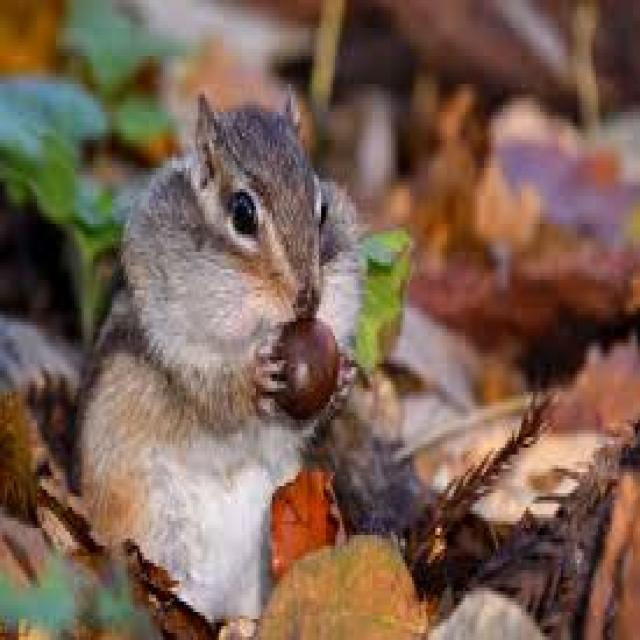squirrel: (70, 80, 370, 630)
